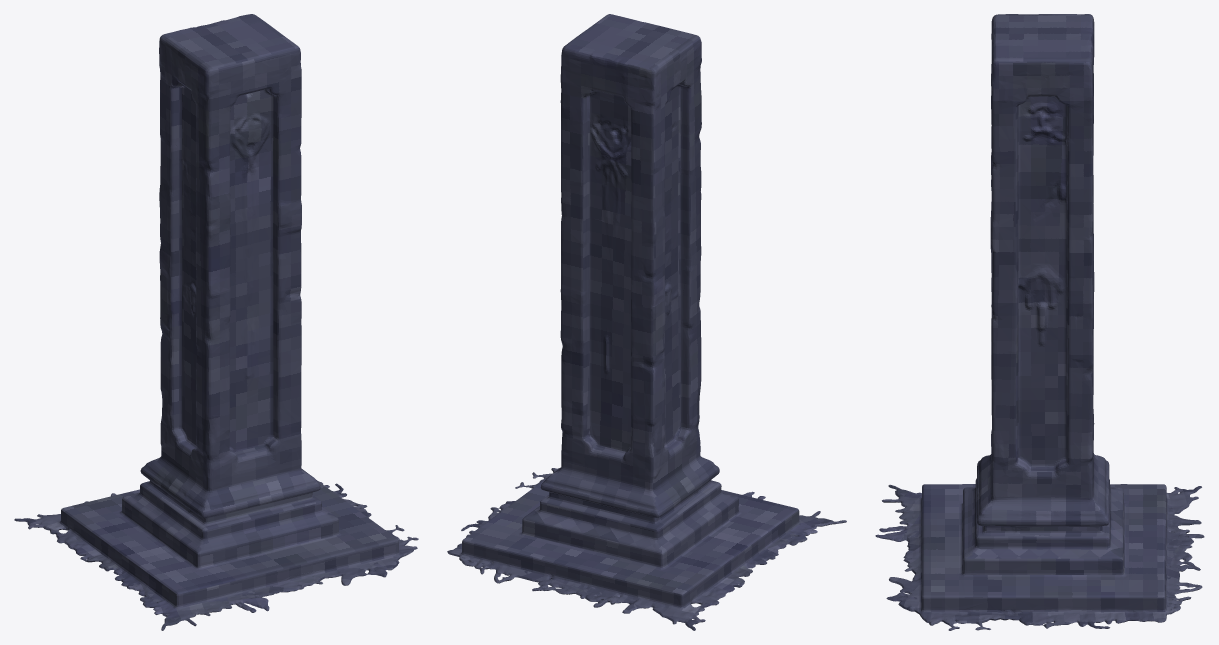
The model's file is weathered-monolith-pillar-generated-2026-04-19T23-39-39-599Z.high.glb.
The picture shows the model from 3 angles, left to right: view 1: azimuth 30°, elevation 25°; view 2: azimuth 150°, elevation 25°; view 3: azimuth 270°, elevation 25°; orthographic projection. The views are drawn at different scales.
Parts seen in each view (by area): view 1: temp_mesh.ply; view 2: temp_mesh.ply; view 3: temp_mesh.ply.
Boxes of the visible parts, bbox=[...] form: temp_mesh.ply: bbox=[14, 14, 418, 630]; temp_mesh.ply: bbox=[447, 14, 846, 630]; temp_mesh.ply: bbox=[875, 14, 1204, 630].
Bounding box in the file's own units: 1.18 × 1.97 × 1.13.
1 material, 1 textured.
